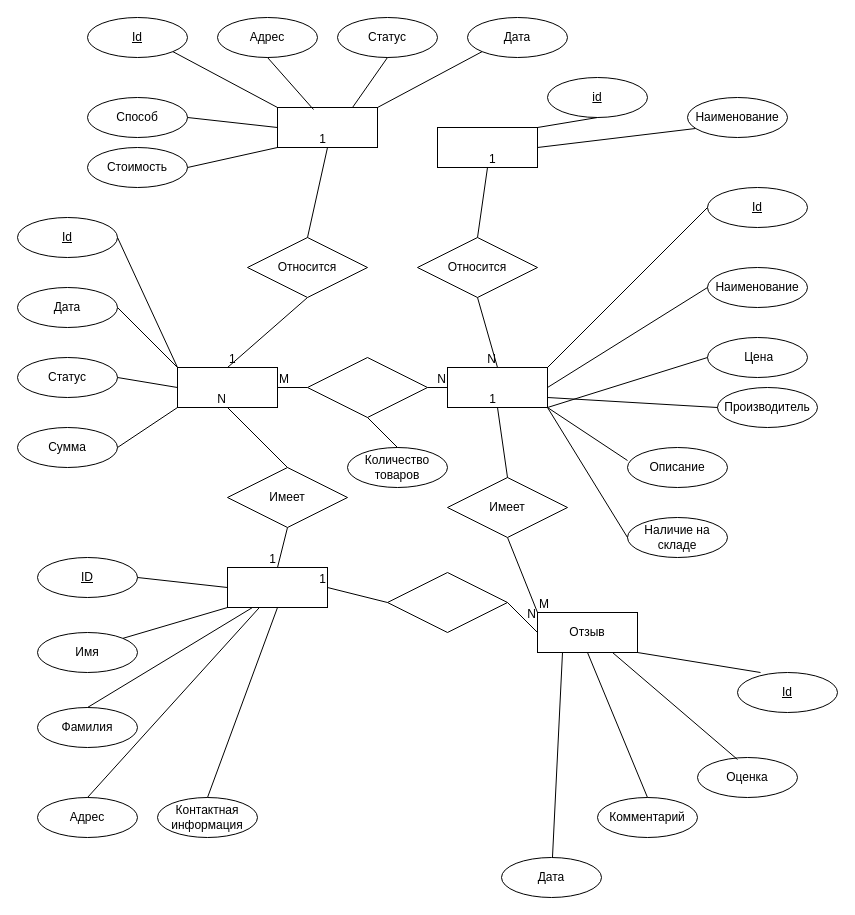
Some shapes in this 855 by 915 pixel diagram are drawn without their labels. Here are the shapes that lost their labels. From the top down, the centre of each, then its label:
At point (327, 127): "Доставка".
At point (487, 147): "Категория".
At point (227, 387): "Заказ".
At point (367, 387): "Включает в себя".
At point (497, 387): "Товар".
At point (277, 587): "Клиент".
At point (447, 602): "Пишет".
